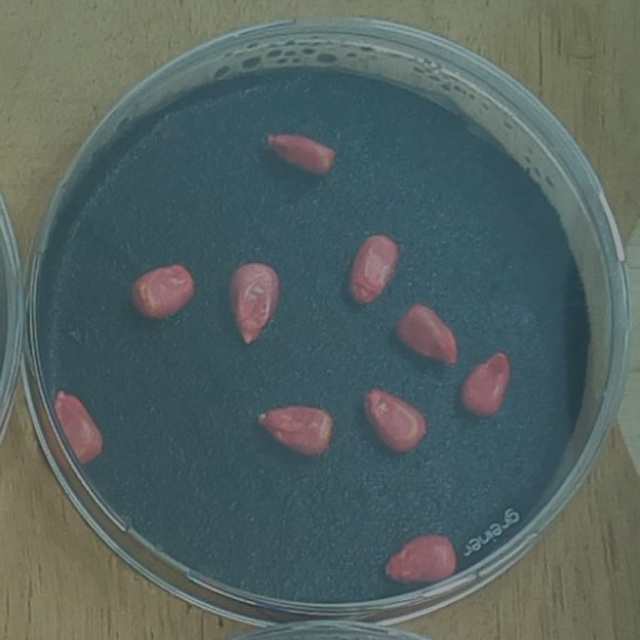Zea mays: (221, 255, 285, 354), (377, 527, 463, 597), (248, 398, 339, 464), (355, 382, 431, 459), (388, 296, 464, 371), (124, 256, 200, 329), (46, 383, 108, 469), (342, 228, 404, 313), (452, 345, 517, 425), (258, 125, 343, 186)
